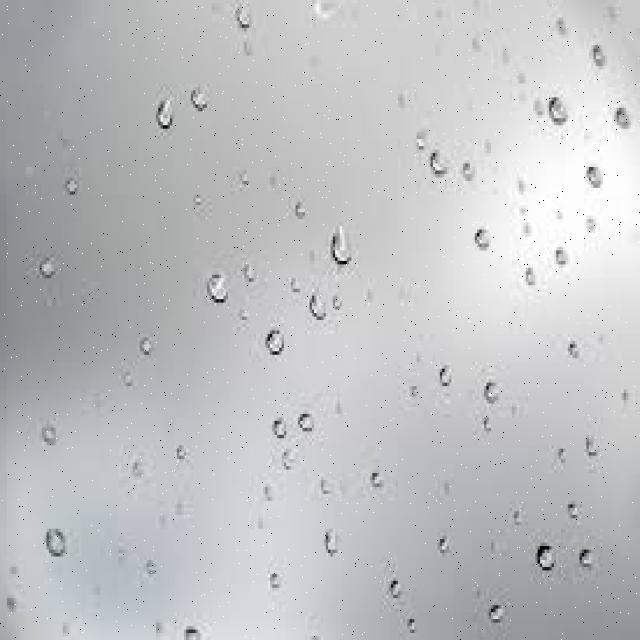raindrop: (196, 250, 233, 318), (322, 209, 360, 275), (537, 84, 575, 136), (38, 515, 70, 568), (526, 534, 562, 578), (301, 276, 328, 334), (262, 316, 288, 364), (582, 158, 609, 202)
